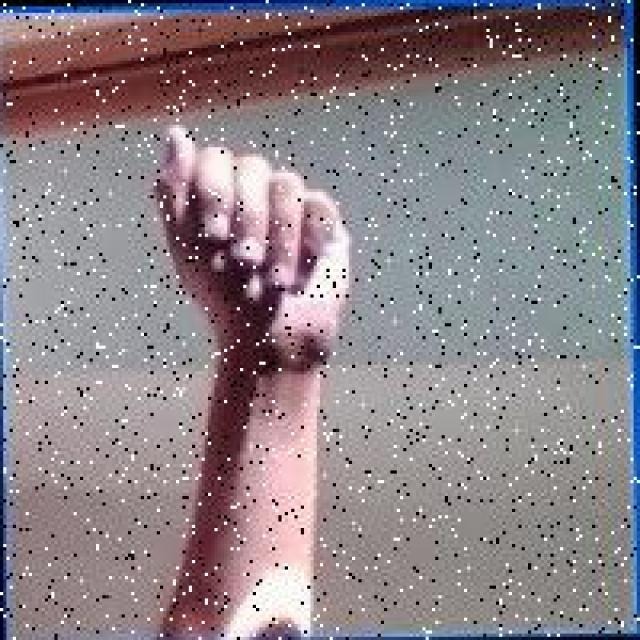A: (149, 115, 357, 371)
